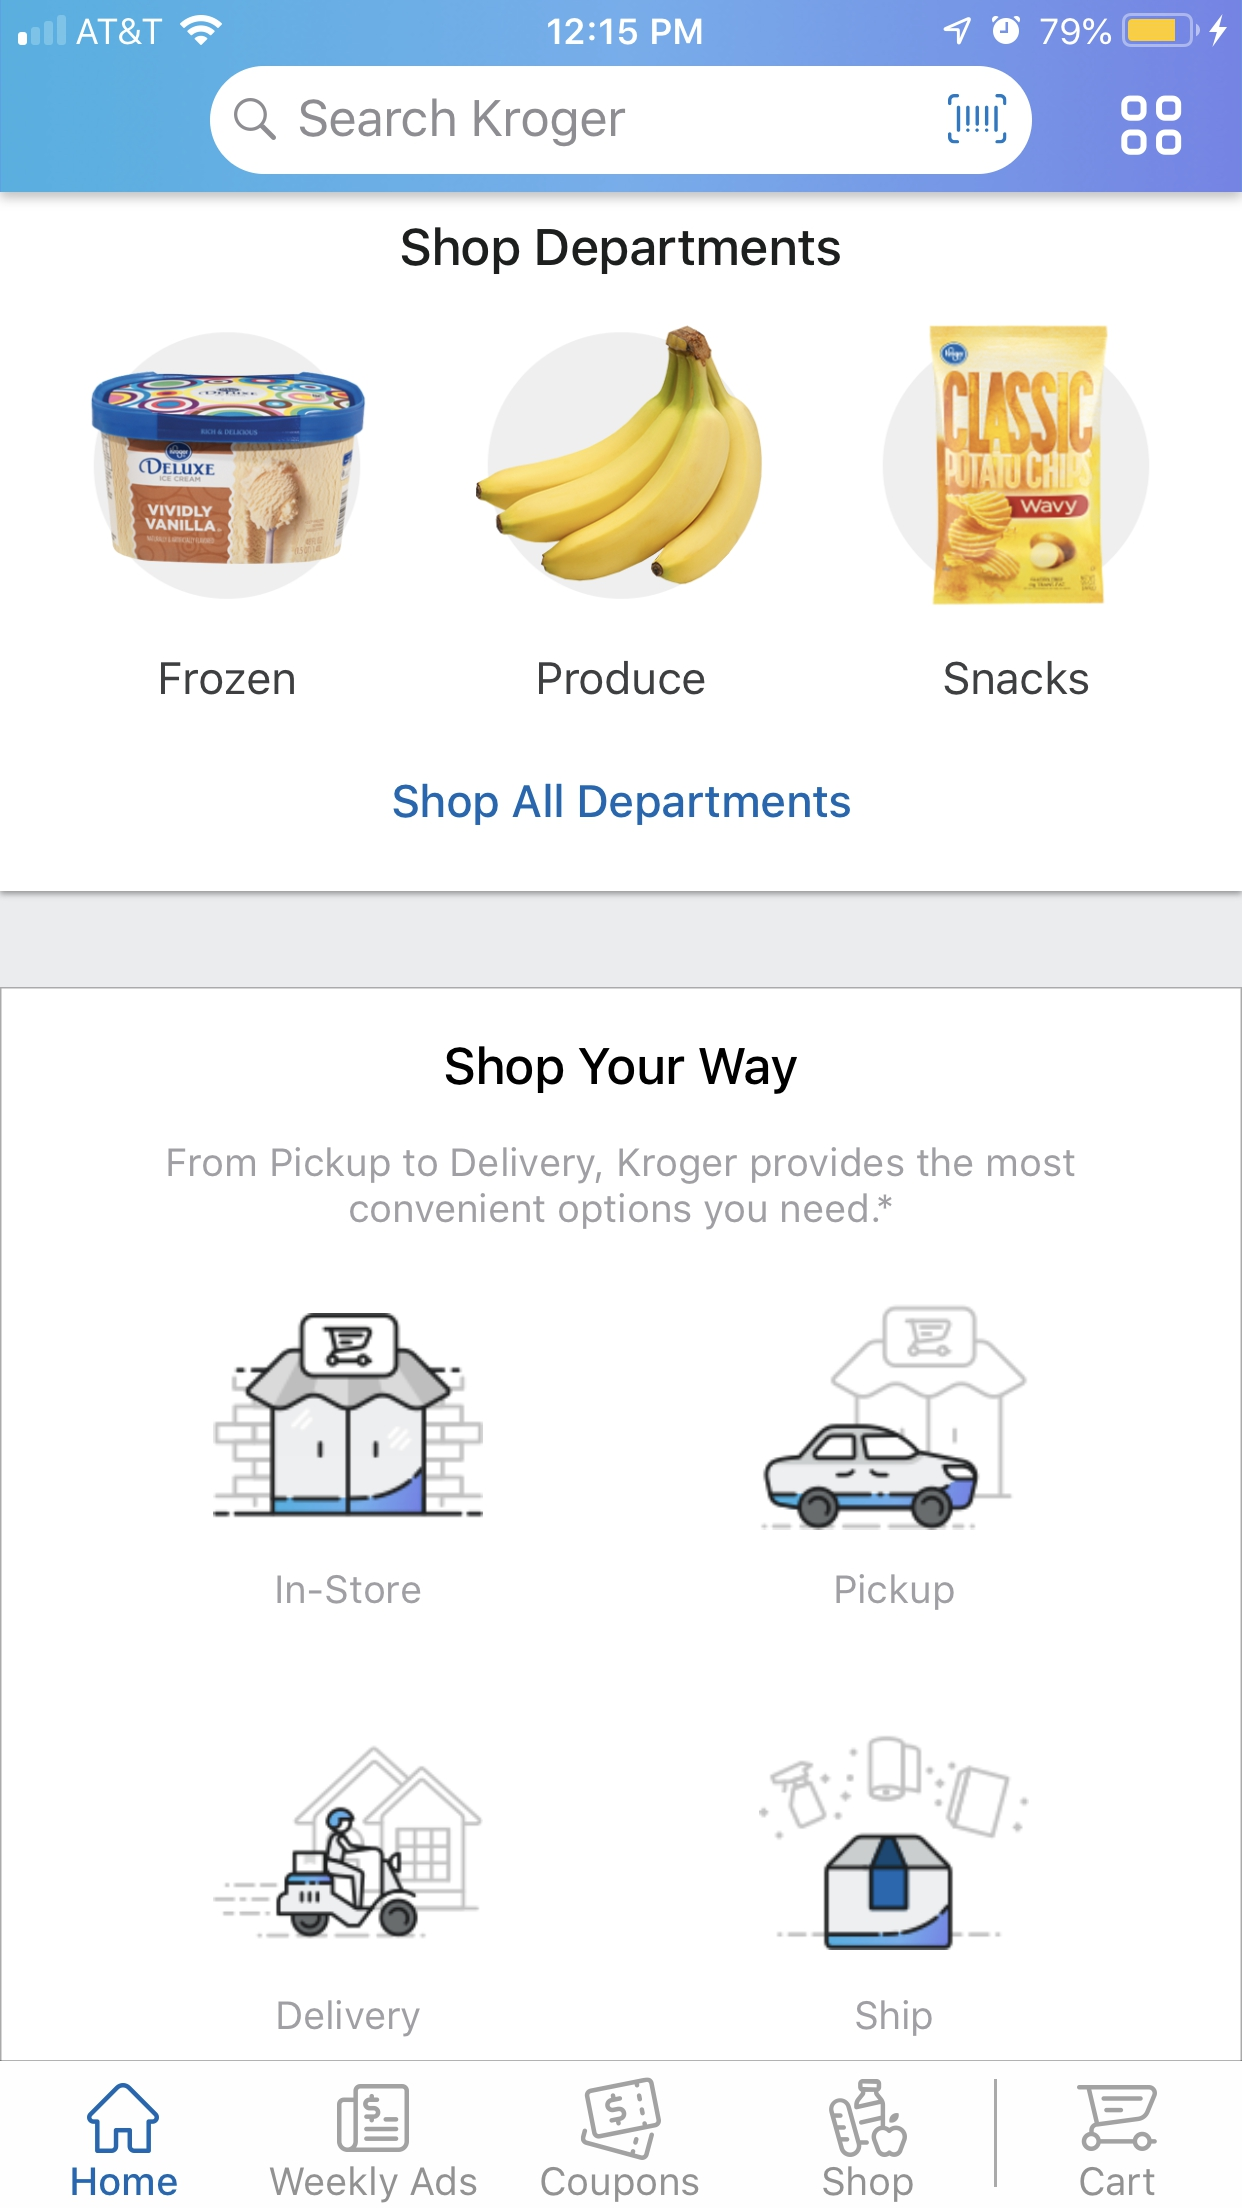EditText: (209, 67, 1033, 174)
Icon: (579, 2076, 663, 2159), (1071, 2081, 1157, 2150), (86, 2082, 161, 2153), (337, 2084, 409, 2153), (1121, 94, 1183, 158), (234, 99, 278, 141)
Image: (476, 325, 763, 601), (883, 326, 1149, 607), (91, 332, 365, 601), (761, 1306, 1028, 1532), (758, 1735, 1030, 1952), (212, 1313, 485, 1520), (214, 1745, 484, 1941), (828, 2078, 908, 2158), (946, 96, 1007, 146)
Text: (167, 1146, 1075, 1230), (402, 227, 842, 276), (394, 783, 851, 826), (446, 1045, 798, 1095), (300, 99, 626, 149), (270, 2164, 478, 2203), (538, 660, 707, 696), (541, 2166, 701, 2203), (278, 1999, 422, 2037), (943, 660, 1089, 696), (161, 661, 296, 696), (836, 1574, 955, 1612), (278, 1574, 422, 1604), (822, 2166, 914, 2203), (71, 2166, 177, 2197), (855, 1999, 933, 2037), (1074, 2163, 1156, 2196)
UpperTaskBar: (2, 2, 1242, 49)
